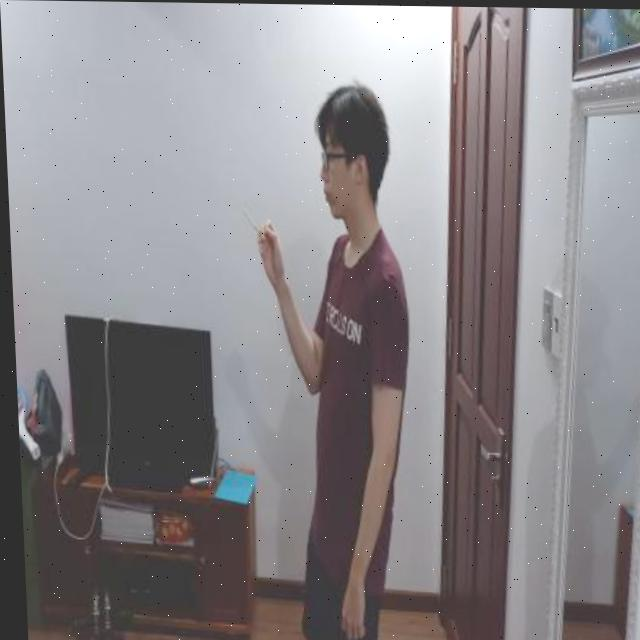cigarette: (241, 207, 258, 234)
